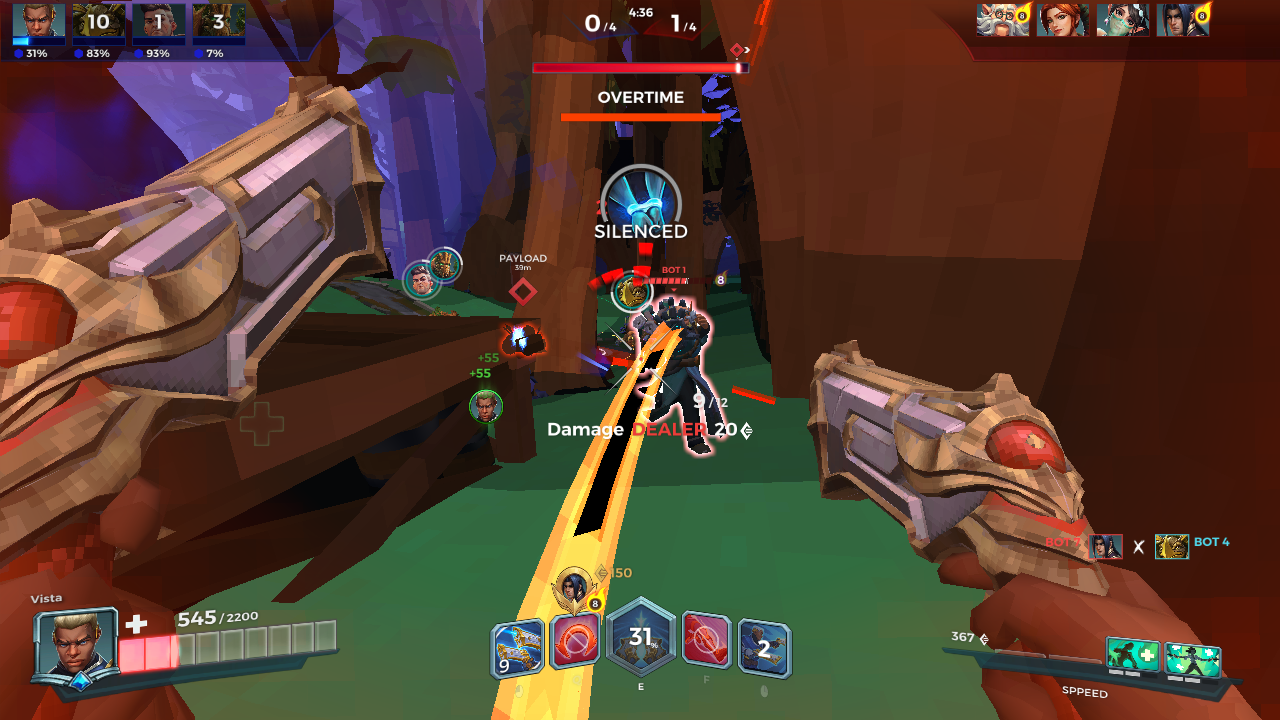model: (629, 294, 737, 462)
